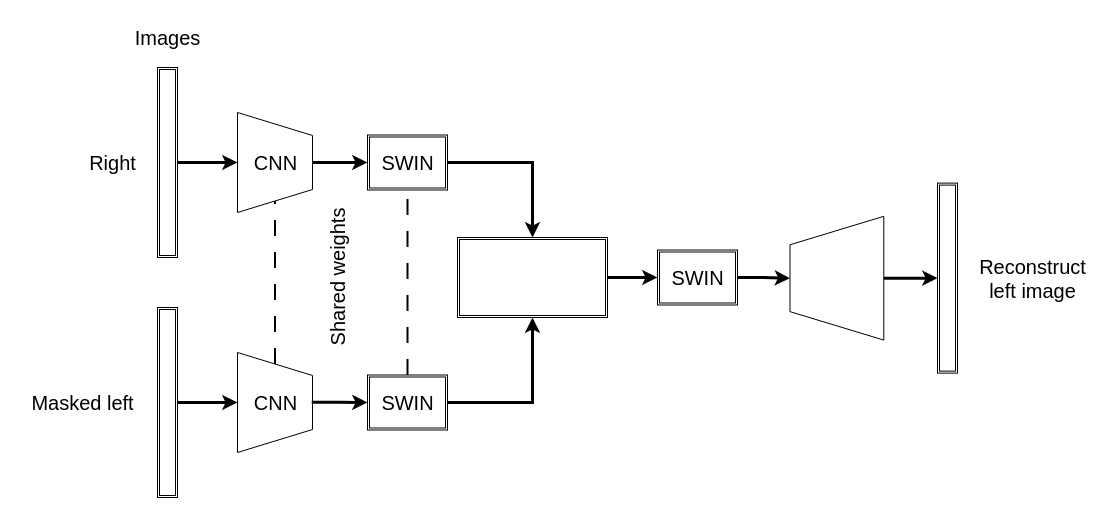
The diagram is 1114 pixels wide and 515 high, and some of its shapes have lost their labels. Each missing label, with the centre of its shape:
"CNN UP" belongs at (836,277).
"Cross-attention on disparity dimension" belongs at (532,277).
